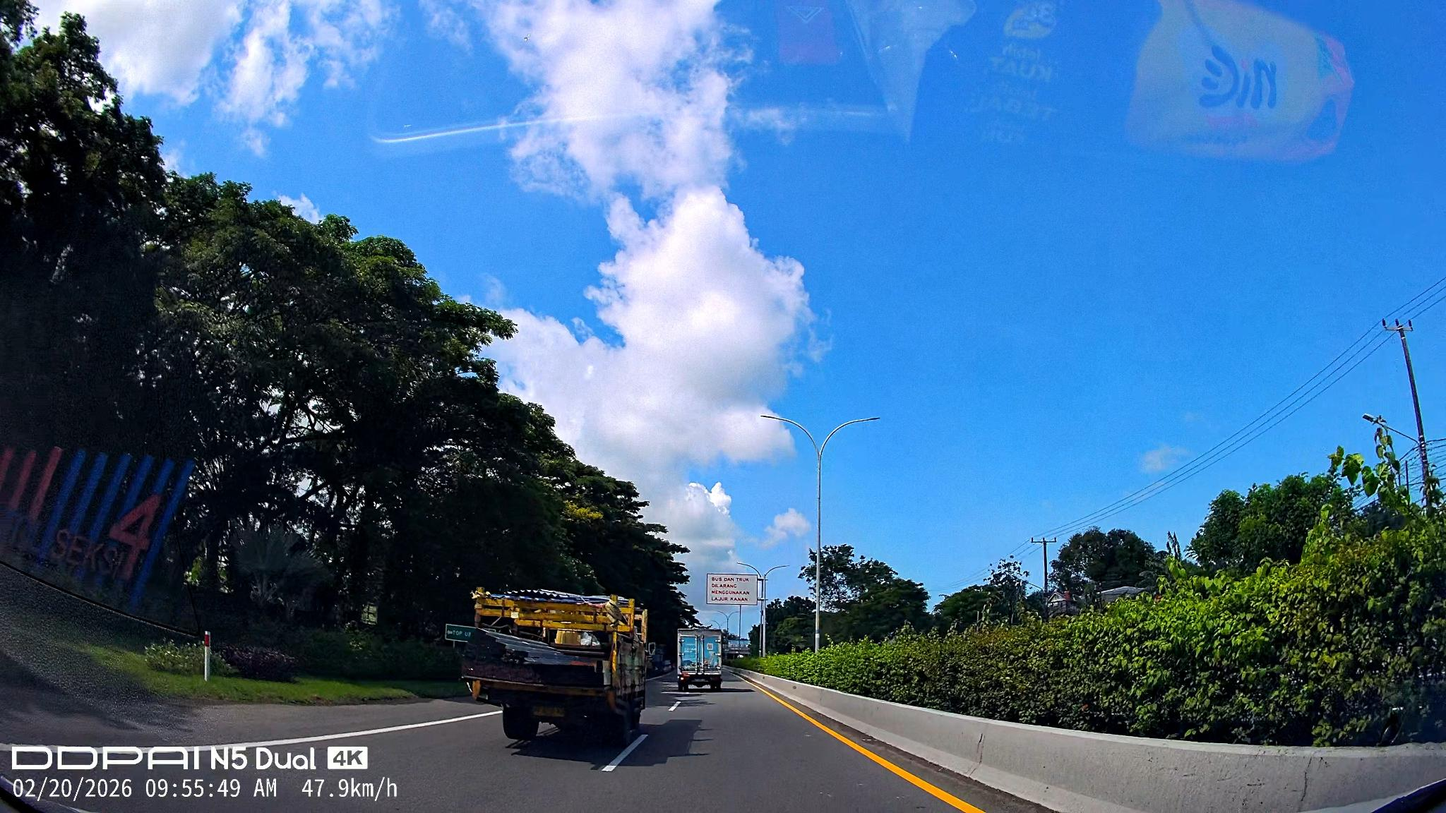rambu_teks: (706, 573, 758, 605)
